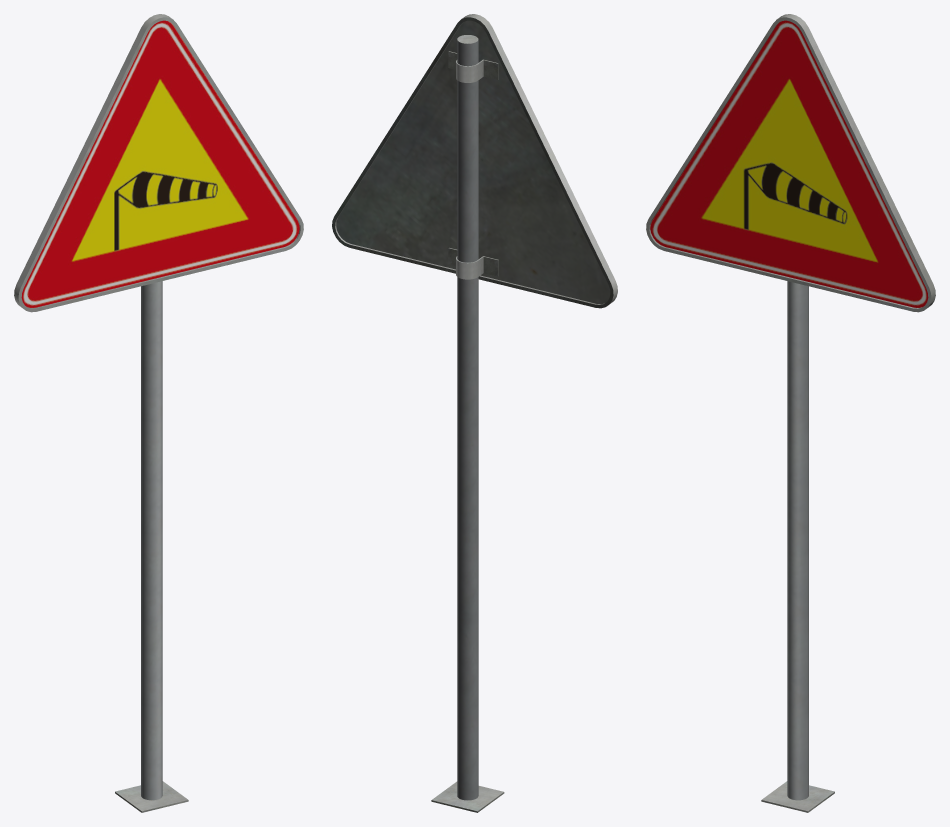
3 views of the same model, side by side, from view 1: azimuth 30°, elevation 25°; view 2: azimuth 150°, elevation 25°; view 3: azimuth 330°, elevation 25° (orthographic).
Visible parts, largest first — view 1: MainBuilding; view 2: MainBuilding; view 3: MainBuilding.
Part boxes in pixels (box(x1,y1,x2,y2)): MainBuilding: box(14, 14, 303, 812); MainBuilding: box(332, 14, 617, 812); MainBuilding: box(646, 14, 935, 812).
Size of the model in its own units: 0.9151 by 2.41 by 0.15.
Materials: 1 (1 with a texture image).
